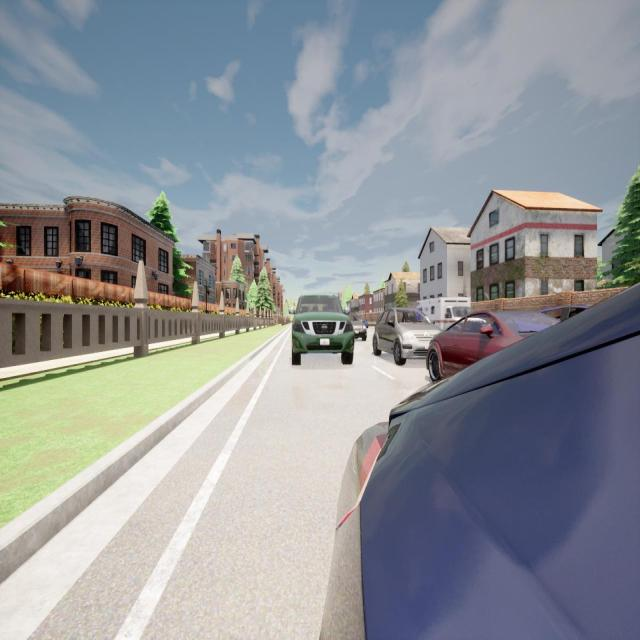Vehicle: (320, 284, 640, 638), (425, 309, 549, 380), (288, 294, 354, 366), (372, 308, 436, 362), (415, 300, 472, 340), (533, 306, 593, 328), (340, 312, 367, 341), (359, 319, 369, 330)
